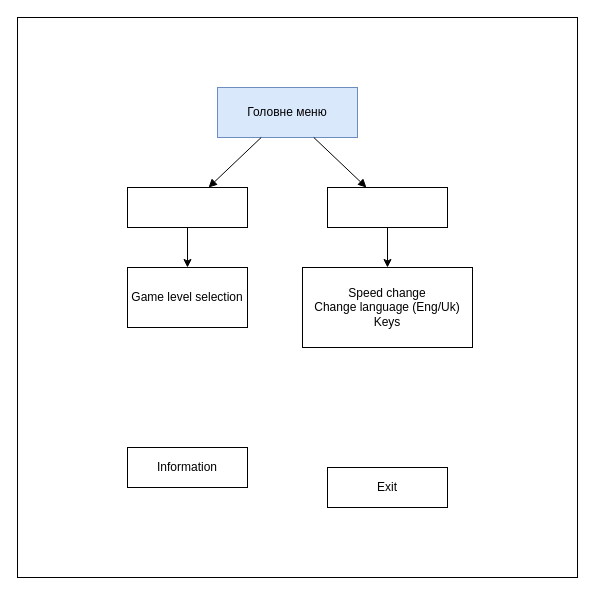
This 595x595 diagram has some shape labels left out. The shapes that lost their labels are listed below. From the top down, each one's centre as x and y in pixels, then its label:
At pixel 187 207: "Start".
At pixel 387 207: "Settings".
